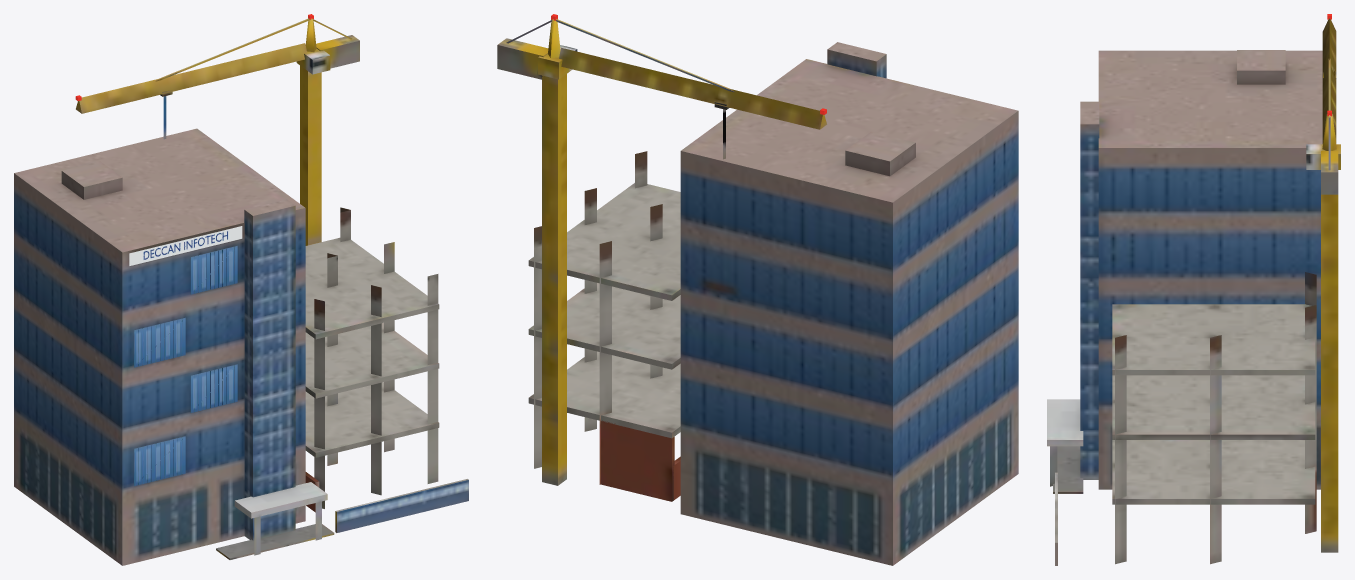
Rendered from hitec_office.glb.
3 views of the same model, side by side, from view 1: azimuth 30°, elevation 25°; view 2: azimuth 150°, elevation 25°; view 3: azimuth 270°, elevation 25° (orthographic). The views are drawn at different scales.
Parts seen in each view (by area): view 1: hitec_office_body, hitec_office_sheet; view 2: hitec_office_body; view 3: hitec_office_body.
Boxes of the visible parts, box(x1,y1,x2,y2) form: hitec_office_body: box(14, 18, 468, 565); hitec_office_sheet: box(75, 14, 313, 486); hitec_office_body: box(497, 19, 1018, 565); hitec_office_body: box(1047, 18, 1340, 565).
Bounding box in the file's own units: 72 × 81.3 × 49.5.
2 materials, 2 textured.
